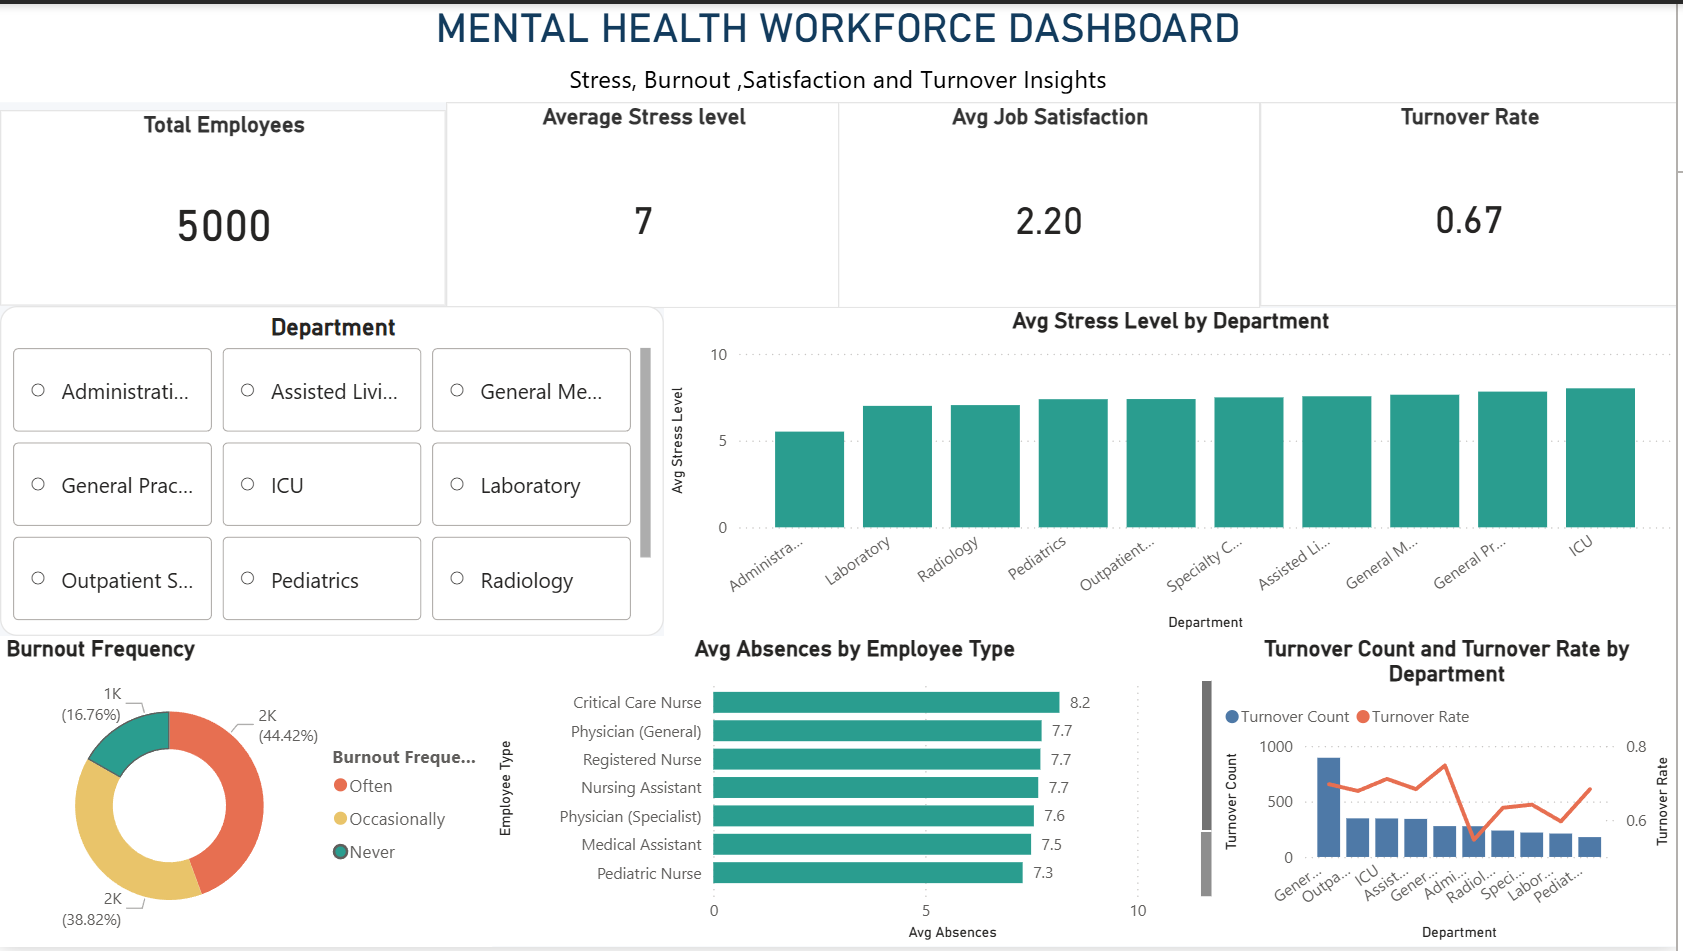

The page's visual inventory and layout, read from the dashboard file:
{"tool":"powerbi","page":{"name":"Page 1","canvas":[1280,720],"ordinal":0},"visuals":[{"type":"textbox","title":"MENTAL HEALTH WORKFORCE DASHBOARD","box":[0,0,1280,74.8],"z":0},{"type":"card","title":"Total Employees","fields":{"Values":["Healthcare Workforce Mental Health Dataset.Total Employees"]},"box":[0,81,340.6,149.7],"z":1000},{"type":"card","title":"Average Stress level","fields":{"Values":["Healthcare Workforce Mental Health Dataset.Avg Stress Level"]},"box":[340.6,74.8,300.9,157.3],"z":2000},{"type":"card","title":"Avg Job Satisfaction","fields":{"Values":["Healthcare Workforce Mental Health Dataset.Avg Job Satisfaction"]},"box":[640,74.8,322.3,157.3],"z":3000},{"type":"card","title":"Turnover  Rate","fields":{"Values":["Healthcare Workforce Mental Health Dataset.Turnover Rate"]},"box":[962.3,74.8,319.2,155.8],"z":4000},{"type":"advancedSlicerVisual","fields":{"Values":["Healthcare Workforce Mental Health Dataset.Department"]},"box":[0,230.6,507.1,252],"z":5000},{"type":"clusteredColumnChart","fields":{"Category":["Healthcare Workforce Mental Health Dataset.Department"],"Y":["Healthcare Workforce Mental Health Dataset.Avg Stress Level"]},"box":[507.1,232.2,774.4,250.5],"z":6000},{"type":"donutChart","title":"Burnout Frequency","fields":{"Category":["Healthcare Workforce Mental Health Dataset.Burnout Frequency"],"Y":["Healthcare Workforce Mental Health Dataset.Total Employees"]},"box":[0,482.7,375.8,238.3],"z":7000},{"type":"lineClusteredColumnComboChart","fields":{"Category":["Healthcare Workforce Mental Health Dataset.Department"],"Y":["Healthcare Workforce Mental Health Dataset.Turnover Count"],"Y2":["Healthcare Workforce Mental Health Dataset.Turnover Rate"]},"box":[930.2,482.7,349.8,236.8],"z":8000},{"type":"clusteredBarChart","fields":{"Category":["Healthcare Workforce Mental Health Dataset.Employee Type"],"Y":["Healthcare Workforce Mental Health Dataset.Avg Absences"]},"box":[375.8,482.7,554.5,236.8],"z":9000}]}

Visuals, with their boxes in screenshot pixels (x1, y1, x2, y2), scaled from the page's 1280x720 canvas onto the 1683x951 screenshot:
"MENTAL HEALTH WORKFORCE DASHBOARD" textbox: rect(0, 0, 1682, 99)
"Total Employees" card: rect(0, 107, 448, 305)
"Average Stress level" card: rect(448, 99, 843, 307)
"Avg Job Satisfaction" card: rect(842, 99, 1265, 307)
"Turnover  Rate" card: rect(1265, 99, 1682, 305)
advancedSlicerVisual - Healthcare Workforce Mental Health Dataset.Department: rect(0, 305, 667, 637)
clusteredColumnChart - Healthcare Workforce Mental Health Dataset.Department x Healthcare Workforce Mental Health Dataset.Avg Stress Level: rect(667, 307, 1682, 638)
"Burnout Frequency" donutChart: rect(0, 638, 494, 950)
lineClusteredColumnComboChart - Healthcare Workforce Mental Health Dataset.Department x Healthcare Workforce Mental Health Dataset.Turnover Count: rect(1223, 638, 1682, 950)
clusteredBarChart - Healthcare Workforce Mental Health Dataset.Employee Type x Healthcare Workforce Mental Health Dataset.Avg Absences: rect(494, 638, 1223, 950)
